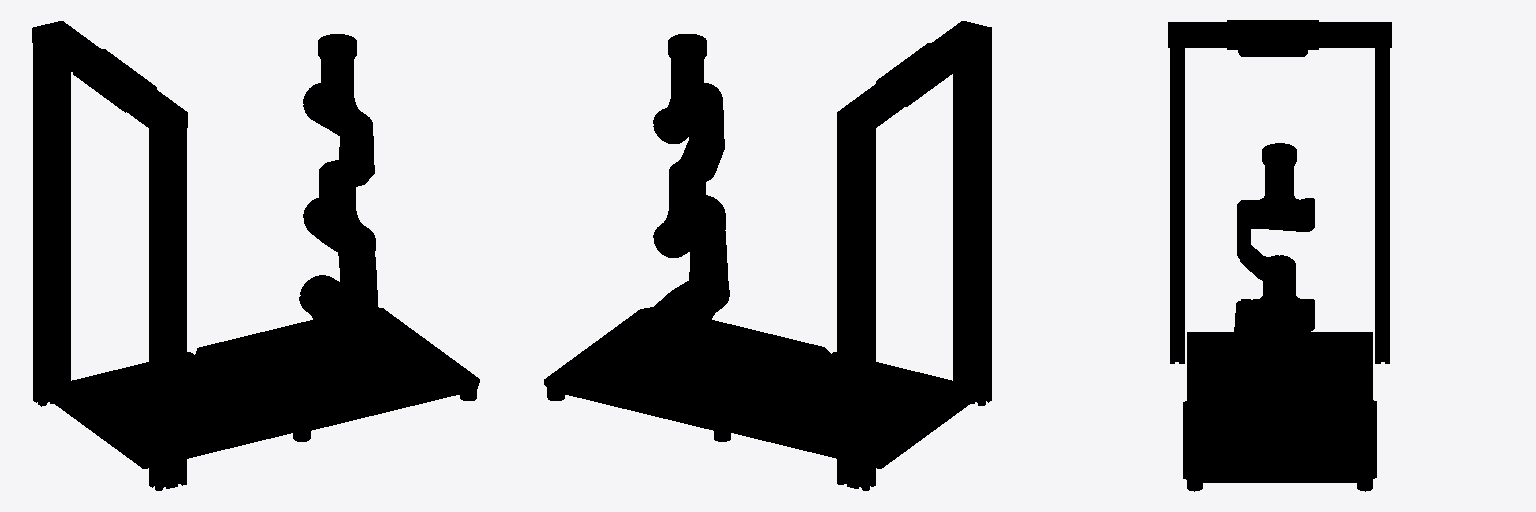
robot.urdf — mara:
<?xml version="1.0" ?>
<!-- =================================================================================== -->
<!-- |    This document was autogenerated by xacro from mara_robot_nogripper.urdf.xacro | -->
<!-- |    EDITING THIS FILE BY HAND IS NOT RECOMMENDED                                 | -->
<!-- =================================================================================== -->
<robot name="mara" xmlns:xacro="http://ros.org/wiki/xacro">
  <gazebo>
    <plugin filename="libgazebo_ros_control.so" name="ros_control">
      <!--robotNamespace>/</robotNamespace-->
      <!--robotSimType>gazebo_ros_control/DefaultRobotHWSim</robotSimType-->
    </plugin>
    <!--
    <plugin name="gazebo_ros_power_monitor_controller" filename="libgazebo_ros_power_monitor.so">
      <alwaysOn>true</alwaysOn>
      <updateRate>1.0</updateRate>
      <timeout>5</timeout>
      <powerStateTopic>power_state</powerStateTopic>
      <powerStateRate>10.0</powerStateRate>
      <fullChargeCapacity>87.78</fullChargeCapacity>     
      <dischargeRate>-474</dischargeRate>
      <chargeRate>525</chargeRate>
      <dischargeVoltage>15.52</dischargeVoltage>
      <chargeVoltage>16.41</chargeVoltage>
    </plugin>
-->
  </gazebo>
  <!--
  Author: Felix Messmer
-->
  <link name="base_link">
    <inertial>
      <origin rpy="0 0 0" xyz="8.625E-08 -4.6583E-06 0.03145"/>
      <mass value="7.033"/>
      <inertia ixx="0.1478344" ixy="-0.00001" ixz="0.0" iyy="0.14782335" iyz="0.0" izz="0.29471799"/>
    </inertial>
    <visual>
      <origin rpy="0 0 0" xyz="0 0 0"/>
      <geometry>
        <mesh filename="package://mara_description/meshes/H-ROS_Robot_BASE.stl" scale="0.001 0.001 0.001"/>
      </geometry>
      <material name="Gazebo/Grey">
        <color rgba="0. 0. 0. 1"/>
      </material>
    </visual>
    <collision>
      <origin rpy="0 0 0" xyz="0 0 0"/>
      <geometry>
        <mesh filename="package://mara_description/meshes/H-ROS_Robot_BASE.stl" scale="0.001 0.001 0.001"/>
      </geometry>
    </collision>
  </link>
  <gazebo reference="base_link">
    <material>Gazebo/Grey</material>
    <selfCollide>False</selfCollide>
  </gazebo>
  <link name="motor1_link">
    <inertial>
      <origin rpy="0 0 0" xyz="8.625E-08 -4.6583E-06 0.03145"/>
      <mass value="5.8"/>
      <inertia ixx="0.10105893" ixy="0.000211" ixz="-0.004" iyy="0.09386624" iyz="-0.01698537" izz="0.01449937"/>
    </inertial>
    <visual>
      <origin rpy="0 0 0" xyz="0 0 0"/>
      <geometry>
        <mesh filename="package://mara_description/meshes/H-ROS_Robot_mara1.stl" scale="0.001 0.001 0.001"/>
      </geometry>
      <material name="Gazebo/White">
        <color rgba="0. 0. 0. 1"/>
      </material>
    </visual>
    <collision>
      <origin rpy="0 0 0" xyz="0 0 0"/>
      <geometry>
        <mesh filename="package://mara_description/meshes/H-ROS_Robot_mara1.stl" scale="0.001 0.001 0.001"/>
      </geometry>
    </collision>
  </link>
  <gazebo reference="motor1_link">
    <material>Gazebo/White</material>
    <selfCollide>False</selfCollide>
  </gazebo>
  <link name="motor2_link">
    <inertial>
      <origin rpy="0 0 0" xyz="8.625E-08 -4.6583E-06 0.03145"/>
      <mass value="1.03237"/>
      <inertia ixx="0.014865226" ixy="0.0" ixz="0.0" iyy="0.01557" iyz="0.00071" izz="0.00092"/>
    </inertial>
    <visual>
      <origin rpy="0 0 0" xyz="0 0 0"/>
      <geometry>
        <mesh filename="package://mara_description/meshes/H-ROS_Robot_LINK1.stl" scale="0.001 0.001 0.001"/>
      </geometry>
      <material name="Gazebo/Black">
        <color rgba="0. 0. 0. 1"/>
      </material>
    </visual>
    <collision>
      <origin rpy="0 0 0" xyz="0 0 0"/>
      <geometry>
        <mesh filename="package://mara_description/meshes/H-ROS_Robot_LINK1.stl" scale="0.001 0.001 0.001"/>
      </geometry>
    </collision>
  </link>
  <gazebo reference="motor2_link">
    <material>Gazebo/Black</material>
    <selfCollide>False</selfCollide>
  </gazebo>
  <link name="motor3_link">
    <inertial>
      <origin rpy="0 0 0" xyz="8.625E-08 -4.6583E-06 0.03145"/>
      <mass value="3.8"/>
      <inertia ixx="0.04517" ixy="0.00002" ixz="0.0" iyy="0.01587" iyz="0.01444" izz="0.03303"/>
    </inertial>
    <visual>
      <origin rpy="0 0 0" xyz="0 0 0"/>
      <geometry>
        <mesh filename="package://mara_description/meshes/H-ROS_Robot_mara2.stl" scale="0.001 0.001 0.001"/>
      </geometry>
      <material name="Gazebo/White">
        <color rgba="0. 0. 0. 1"/>
      </material>
    </visual>
    <collision>
      <origin rpy="0 0 0" xyz="0 0 0"/>
      <geometry>
        <mesh filename="package://mara_description/meshes/H-ROS_Robot_mara2.stl" scale="0.001 0.001 0.001"/>
      </geometry>
    </collision>
  </link>
  <gazebo reference="motor3_link">
    <material>Gazebo/White</material>
    <selfCollide>False</selfCollide>
  </gazebo>
  <link name="motor4_link">
    <inertial>
      <origin rpy="0 0 0" xyz="8.625E-08 -4.6583E-06 0.03145"/>
      <mass value="1.1"/>
      <inertia ixx="0.01464" ixy="0.0" ixz="0.0" iyy="0.00895" iyz="-0.00631" izz="0.00725"/>
    </inertial>
    <visual>
      <origin rpy="0 0 0" xyz="0 0 0"/>
      <geometry>
        <mesh filename="package://mara_description/meshes/H-ROS_Robot_LINK2.stl" scale="0.001 0.001 0.001"/>
      </geometry>
      <material name="Gazebo/Black">
        <color rgba="0. 0. 0. 1"/>
      </material>
    </visual>
    <collision>
      <origin rpy="0 0 0" xyz="0 0 0"/>
      <geometry>
        <mesh filename="package://mara_description/meshes/H-ROS_Robot_LINK2.stl" scale="0.001 0.001 0.001"/>
      </geometry>
    </collision>
  </link>
  <gazebo reference="motor4_link">
    <material>Gazebo/Black</material>
    <selfCollide>False</selfCollide>
  </gazebo>
  <link name="motor5_link">
    <inertial>
      <origin rpy="0 0 0" xyz="8.625E-08 -4.6583E-06 0.03145"/>
      <mass value="2.9"/>
      <inertia ixx="0.03406" ixy="0.0" ixz="0.0" iyy="0.01066" iyz="0.00989" izz="0.02563"/>
    </inertial>
    <visual>
      <origin rpy="0 0 0" xyz="0 0 0"/>
      <geometry>
        <mesh filename="package://mara_description/meshes/H-ROS_Robot_mara3.stl" scale="0.001 0.001 0.001"/>
      </geometry>
      <material name="Gazebo/White">
        <color rgba="0. 0. 0. 1"/>
      </material>
    </visual>
    <collision>
      <origin rpy="0 0 0" xyz="0 0 0"/>
      <geometry>
        <mesh filename="package://mara_description/meshes/H-ROS_Robot_mara3.stl" scale="0.001 0.001 0.001"/>
      </geometry>
    </collision>
  </link>
  <gazebo reference="motor5_link">
    <material>Gazebo/White</material>
    <selfCollide>False</selfCollide>
  </gazebo>
  <link name="motor6_link">
    <inertial>
      <origin rpy="0 0 0" xyz="8.625E-08 -4.6583E-06 0.03145"/>
      <mass value="2.9"/>
      <inertia ixx="0.0005" ixy="0.0" ixz="0.0" iyy="0.0005" iyz="0.0000" izz="0.0003"/>
    </inertial>
    <visual>
      <origin rpy="0 0 0" xyz="0 0 0"/>
      <geometry>
        <mesh filename="package://mara_description/meshes/gripper_support.stl" scale="0.001 0.001 0.001"/>
      </geometry>
      <material name="Gazebo/Black">
        <color rgba="0. 0. 0. 1"/>
      </material>
    </visual>
    <collision>
      <origin rpy="0 0 0" xyz="0 0 0"/>
      <geometry>
        <mesh filename="package://mara_description/meshes/gripper_support.stl" scale="0.001 0.001 0.001"/>
      </geometry>
    </collision>
  </link>
  <gazebo reference="motor6_link">
    <material>Gazebo/Black</material>
    <selfCollide>False</selfCollide>
  </gazebo>
  <link name="ee_link">
    <visual>
      <geometry>
        <box size="0.01 0.01 0.01"/>
      </geometry>
      <material name="Gazebo/Grey">
        <color rgba="0. 0. 0. 1"/>
      </material>
    </visual>
    <collision>
      <geometry>
        <box size="0.01 0.01 0.01"/>
      </geometry>
    </collision>
  </link>
  <gazebo reference="ee_link">
    <material>Gazebo/Blue</material>
    <selfCollide>False</selfCollide>
  </gazebo>
  <joint name="motor1" type="revolute">
    <origin rpy="0 0 0" xyz="0 0 0.00625"/>
    <parent link="base_link"/>
    <child link="motor1_link"/>
    <axis xyz="0 0 1"/>
    <limit effort="330.0" lower="-3.1416" upper="3.1416" velocity="2.16"/>
    <dynamics damping="0" friction="0"/>
  </joint>
  <joint name="motor2" type="revolute">
    <origin rpy="0 0 0" xyz="0 -0.100499999 0.1545"/>
    <parent link="motor1_link"/>
    <child link="motor2_link"/>
    <axis xyz="0 1 0"/>
    <limit effort="330.0" lower="-3.1416" upper="3.1416" velocity="2.16"/>
    <dynamics damping="0" friction="0"/>
  </joint>
  <joint name="motor3" type="revolute">
    <origin rpy="0 0 0" xyz="0 -0.000499999 0.2"/>
    <parent link="motor2_link"/>
    <child link="motor3_link"/>
    <axis xyz="0 1 0"/>
    <limit effort="150" lower="-3.1416" upper="3.1416" velocity="3.15"/>
    <dynamics damping="0" friction="0"/>
  </joint>
  <joint name="motor4" type="revolute">
    <origin rpy="0 0 0" xyz="0 0.09999 0.12999997"/>
    <parent link="motor3_link"/>
    <child link="motor4_link"/>
    <axis xyz="0 0 1"/>
    <limit effort="54" lower="-3.1416" upper="3.1416" velocity="3.2"/>
    <dynamics damping="0" friction="0"/>
  </joint>
  <joint name="motor5" type="revolute">
    <origin rpy="0 0 0" xyz="0 -0.096999 0.15906"/>
    <parent link="motor4_link"/>
    <child link="motor5_link"/>
    <axis xyz="0 1 0"/>
    <limit effort="54" lower="-3.1416" upper="3.1416" velocity="3.2"/>
    <dynamics damping="0" friction="0"/>
  </joint>
  <joint name="motor6" type="revolute">
    <origin rpy="0 0 0" xyz="0 0.097 0.12"/>
    <parent link="motor5_link"/>
    <child link="motor6_link"/>
    <axis xyz="0 0 1"/>
    <limit effort="54" lower="-3.1416" upper="3.1416" velocity="3.2"/>
    <dynamics damping="0" friction="0"/>
  </joint>
  <joint name="ee_link" type="fixed">
    <origin rpy="0 -1.57 0" xyz="0 0.0 0.06"/>
    <parent link="motor6_link"/>
    <child link="ee_link"/>
  </joint>
  <transmission name="shoulder_pan_trans">
    <type>transmission_interface/SimpleTransmission</type>
    <joint name="motor1">
      <hardwareInterface>hardware_interface/PositionJointInterface</hardwareInterface>
    </joint>
    <actuator name="shoulder_pan_motor">
      <mechanicalReduction>1</mechanicalReduction>
    </actuator>
  </transmission>
  <transmission name="shoulder_lift_trans">
    <type>transmission_interface/SimpleTransmission</type>
    <joint name="motor2">
      <hardwareInterface>hardware_interface/PositionJointInterface</hardwareInterface>
    </joint>
    <actuator name="shoulder_lift_motor">
      <mechanicalReduction>1</mechanicalReduction>
    </actuator>
  </transmission>
  <transmission name="elbow_trans">
    <type>transmission_interface/SimpleTransmission</type>
    <joint name="motor3">
      <hardwareInterface>hardware_interface/PositionJointInterface</hardwareInterface>
    </joint>
    <actuator name="elbow_motor">
      <mechanicalReduction>1</mechanicalReduction>
    </actuator>
  </transmission>
  <transmission name="wrist_1_trans">
    <type>transmission_interface/SimpleTransmission</type>
    <joint name="motor4">
      <hardwareInterface>hardware_interface/PositionJointInterface</hardwareInterface>
    </joint>
    <actuator name="wrist_1_motor">
      <mechanicalReduction>1</mechanicalReduction>
    </actuator>
  </transmission>
  <transmission name="wrist_2_trans">
    <type>transmission_interface/SimpleTransmission</type>
    <joint name="motor5">
      <hardwareInterface>hardware_interface/PositionJointInterface</hardwareInterface>
    </joint>
    <actuator name="wrist_2_motor">
      <mechanicalReduction>1</mechanicalReduction>
    </actuator>
  </transmission>
  <transmission name="wrist_3_trans">
    <type>transmission_interface/SimpleTransmission</type>
    <joint name="motor6">
      <hardwareInterface>hardware_interface/PositionJointInterface</hardwareInterface>
    </joint>
    <actuator name="wrist_3_motor">
      <mechanicalReduction>1</mechanicalReduction>
    </actuator>
  </transmission>
  <!-- nothing to do here at the moment -->
  <!-- ROS ${prefix}base_link to UR 'Base' Coordinates transform -->
  <link name="base"/>
  <joint name="base_link-base_fixed_joint" type="fixed">
    <!-- NOTE: this rotation is only needed as long as ${prefix}base_link itself is
                 not corrected wrt the real robot (ie: rotated over 180
                 degrees)
      -->
    <origin rpy="0 0 -3.14159265359" xyz="0 0 0"/>
    <parent link="base_link"/>
    <child link="base"/>
  </joint>
  <!-- Frame coincident with all-zeros TCP on UR controller -->
  <link name="tool0"/>
  <joint name="motor6_link-tool0_fixed_joint" type="fixed">
    <origin rpy="-1.57079632679 0 0" xyz="0 0 0"/>
    <parent link="motor6_link"/>
    <child link="tool0"/>
  </joint>
  <link name="mara_work_area_link">
    <inertial>
      <origin rpy="0 0 0" xyz="8.625E-08 -4.6583E-06 0.03145"/>
      <mass value="7.033"/>
      <inertia ixx="0.1478344" ixy="-0.00001" ixz="0.0" iyy="0.14782335" iyz="0.0" izz="0.29471799"/>
    </inertial>
    <visual>
      <origin rpy="0 0 0" xyz="0 0 0"/>
      <geometry>
        <mesh filename="package://mara_description/meshes/demo/AIR_WorkArea.stl" scale="0.001 0.001 0.001"/>
      </geometry>
      <material name="Gazebo/Wood">
        <color rgba="0. 0. 0. 1"/>
      </material>
    </visual>
    <collision>
      <origin rpy="0 0 0" xyz="0 0 0"/>
      <geometry>
        <mesh filename="package://mara_description/meshes/demo/AIR_WorkArea.stl" scale="0.001 0.001 0.001"/>
      </geometry>
    </collision>
  </link>
  <gazebo reference="mara_work_area_link">
    <material>Gazebo/Wood</material>
    <selfCollide>False</selfCollide>
  </gazebo>
  <link name="mara_camera_support_link">
    <inertial>
      <origin rpy="0 0 0" xyz="8.625E-08 -4.6583E-06 0.03145"/>
      <mass value="7.033"/>
      <inertia ixx="0.1478344" ixy="-0.00001" ixz="0.0" iyy="0.14782335" iyz="0.0" izz="0.29471799"/>
    </inertial>
    <visual>
      <origin rpy="0 0 0" xyz="0 0 0"/>
      <geometry>
        <mesh filename="package://mara_description/meshes/demo/top/top_camera_support.stl" scale="0.001 0.001 0.001"/>
      </geometry>
      <material name="Gazebo/Wood">
        <color rgba="0. 0. 0. 1"/>
      </material>
    </visual>
    <collision>
      <origin rpy="0 0 0" xyz="0 0 0"/>
      <geometry>
        <mesh filename="package://mara_description/meshes/demo/top/top_camera_support.stl" scale="0.001 0.001 0.001"/>
      </geometry>
    </collision>
  </link>
  <gazebo reference="mara_work_area_link">
    <material>Gazebo/Wood</material>
    <selfCollide>False</selfCollide>
  </gazebo>
  <link name="depthsensor">
    <inertial>
      <origin rpy="0 0 0" xyz="-0.12987 0 0.02947"/>
      <mass value="10.0"/>
      <inertia ixx="1.38185" ixy="-0.00001" ixz="-0.05685" iyx="-0.00001" iyy="1.03177" iyz="0.0" izx="-0.05685" izy="0.00000" izz="2.27567"/>
    </inertial>
    <visual>
      <origin rpy="0 0 0" xyz="0 0 0"/>
      <geometry>
        <mesh filename="package://scara_e1_description/meshes/camera/SCARA_DepthSensor_SIDE.stl" scale="0.001 0.001 0.001"/>
      </geometry>
      <material name="Gazebo/Grey">
        <color rgba="1. 1. 1. 1"/>
      </material>
    </visual>
  </link>
  <gazebo reference="depthsensor">
    <material>Gazebo/Grey</material>
    <selfCollide>False</selfCollide>
  </gazebo>
  <link name="camera"/>
  <joint name="base_to_work_area_joint" type="fixed">
    <origin rpy="0 0 0" xyz="-0.450 0 0.00625"/>
    <parent link="base_link"/>
    <child link="mara_work_area_link"/>
  </joint>
  <joint name="base_to_camera_support_joint" type="fixed">
    <origin rpy="0 0 3.1416" xyz="-0.6 0 0.43125"/>
    <parent link="base_link"/>
    <child link="mara_camera_support_link"/>
  </joint>
  <joint name="camera_adapter_to_camera" type="fixed">
    <origin rpy="0 1.57 3.1416" xyz="-0.081188216 0.018 0.434548906"/>
    <parent link="mara_camera_support_link"/>
    <child link="depthsensor"/>
  </joint>
  <joint name="camera_joint" type="fixed">
    <origin rpy="0 0 0" xyz="0.055 0.031375 0.01"/>
    <parent link="depthsensor"/>
    <child link="camera"/>
  </joint>
  <gazebo reference="camera">
    <sensor name="camera_sensor" type="camera">
      <update_rate>20</update_rate>
      <camera>
        <horizontal_fov>1.01</horizontal_fov>
        <image>
          <format>R8G8B8</format>
          <width>320</width>
          <height>240</height>
        </image>
        <clip>
          <near>0.01</near>
          <far>2.0</far>
        </clip>
      </camera>
      <visualize>true</visualize>
      <plugin filename="libgazebo_ros_camera.so" name="camera_camera_controller">
        <cameraName>/mara/camera</cameraName>
        <alwaysOn>true</alwaysOn>
        <updateRate>20</updateRate>
        <visualize>true</visualize>
        <imageTopicName>image_raw</imageTopicName>
        <cameraInfoTopicName>camera_info</cameraInfoTopicName>
        <frameName>camera</frameName>
      </plugin>
    </sensor>
  </gazebo>
  <link name="table">
    <contact>
      <lateral_friction value="1.0"/>
    </contact>
    <inertial>
      <origin rpy="0 0 0" xyz="0 0 0"/>
      <mass value=".0"/>
      <inertia ixx="1" ixy="0" ixz="0" iyy="1" iyz="0" izz="1"/>
    </inertial>
    <visual>
      <origin rpy="0 0 0" xyz="0 0 0.6"/>
      <geometry>
        <mesh filename="package://mara_description/urdf/table.obj" scale="1.5 1 0.05"/>
      </geometry>
      <material name="white">
        <color rgba="1 1 1 1"/>
      </material>
    </visual>
    <collision>
      <origin rpy="0 0 0" xyz="0 0 0.6"/>
      <geometry>
        <box size="1.5 1 0.05"/>
      </geometry>
    </collision>
    <visual>
      <origin rpy="0 0 0" xyz="-0.65 -0.4 0.29"/>
      <geometry>
        <mesh filename="package://mara_description/urdf/table.obj" scale="0.1 0.1 0.58"/>
      </geometry>
      <material name="framemat0"/>
    </visual>
    <visual>
      <origin rpy="0 0 0" xyz="-0.65 0.4 0.29"/>
      <geometry>
        <mesh filename="package://mara_description/urdf/table.obj" scale="0.1 0.1 0.58"/>
      </geometry>
      <material name="framemat0"/>
    </visual>
    <visual>
      <origin rpy="0 0 0" xyz="0.65 -0.4 0.29"/>
      <geometry>
        <mesh filename="package://mara_description/urdf/table.obj" scale="0.1 0.1 0.58"/>
      </geometry>
      <material name="framemat0"/>
    </visual>
    <visual>
      <origin rpy="0 0 0" xyz="0.65 0.4 0.29"/>
      <geometry>
        <mesh filename="package://mara_description/urdf/table.obj" scale="0.1 0.1 0.58"/>
      </geometry>
    </visual>
  </link>
  <link name="world"/>
  <joint name="world_to_table_joint" type="fixed">
    <origin rpy="0 0 0" xyz="0 0 0.02"/>
    <parent link="world"/>
    <child link="table"/>
  </joint>
  <joint name="table_to_base_joint" type="fixed">
    <origin rpy="0 0 0" xyz="0 0 0.65"/>
    <parent link="table"/>
    <child link="base_link"/>
  </joint>
</robot>

--- Facts derived from the render (not from the file) ---
Views: 3 orthographic renders of the robot side by side, from view 1: azimuth 30°, elevation 25°; view 2: azimuth 150°, elevation 25°; view 3: azimuth 270°, elevation 25°.
Robot: mara — 16 links, 15 joints (6 revolute, 9 fixed); root link world; default pose: every joint at zero.
Links seen in each view (by area): view 1: mara_camera_support_link, base_link, mara_work_area_link, motor2_link, motor1_link, motor4_link, motor3_link, motor5_link, motor6_link; view 2: mara_camera_support_link, base_link, mara_work_area_link, motor1_link, motor3_link, motor5_link, motor4_link, motor2_link, motor6_link; view 3: mara_camera_support_link, base_link, mara_work_area_link, motor1_link, motor3_link, motor5_link, motor4_link, motor2_link, motor6_link.
Boxes of the visible links, x1=… form: mara_camera_support_link: x1=32, y1=21, x2=187, y2=490; base_link: x1=195, y1=308, x2=479, y2=441; mara_work_area_link: x1=39, y1=352, x2=294, y2=468; motor2_link: x1=338, y1=224, x2=379, y2=344; motor1_link: x1=299, y1=275, x2=357, y2=368; motor4_link: x1=319, y1=111, x2=374, y2=191; motor3_link: x1=303, y1=184, x2=362, y2=251; motor5_link: x1=303, y1=71, x2=359, y2=135; motor6_link: x1=318, y1=34, x2=356, y2=77; mara_camera_support_link: x1=837, y1=21, x2=991, y2=490; base_link: x1=544, y1=307, x2=830, y2=441; mara_work_area_link: x1=730, y1=352, x2=985, y2=468; motor1_link: x1=649, y1=275, x2=723, y2=368; motor3_link: x1=653, y1=183, x2=720, y2=257; motor5_link: x1=653, y1=70, x2=717, y2=143; motor4_link: x1=669, y1=83, x2=724, y2=189; motor2_link: x1=689, y1=195, x2=729, y2=308; motor6_link: x1=668, y1=34, x2=706, y2=77; mara_camera_support_link: x1=1168, y1=20, x2=1391, y2=363; base_link: x1=1183, y1=397, x2=1376, y2=491; mara_work_area_link: x1=1187, y1=332, x2=1372, y2=399; motor1_link: x1=1246, y1=365, x2=1317, y2=439; motor3_link: x1=1250, y1=276, x2=1314, y2=333; motor5_link: x1=1251, y1=177, x2=1314, y2=231; motor4_link: x1=1237, y1=200, x2=1295, y2=280; motor2_link: x1=1232, y1=299, x2=1249, y2=403; motor6_link: x1=1262, y1=143, x2=1296, y2=181.
Bounding box of the posed robot: 0.9 × 0.578 × 0.943 m (x, y, z).
9 mesh visuals loaded from 11 distinct referenced files (9 binary STL); not drawn: 6 (reference not matched to a file when rendering).
